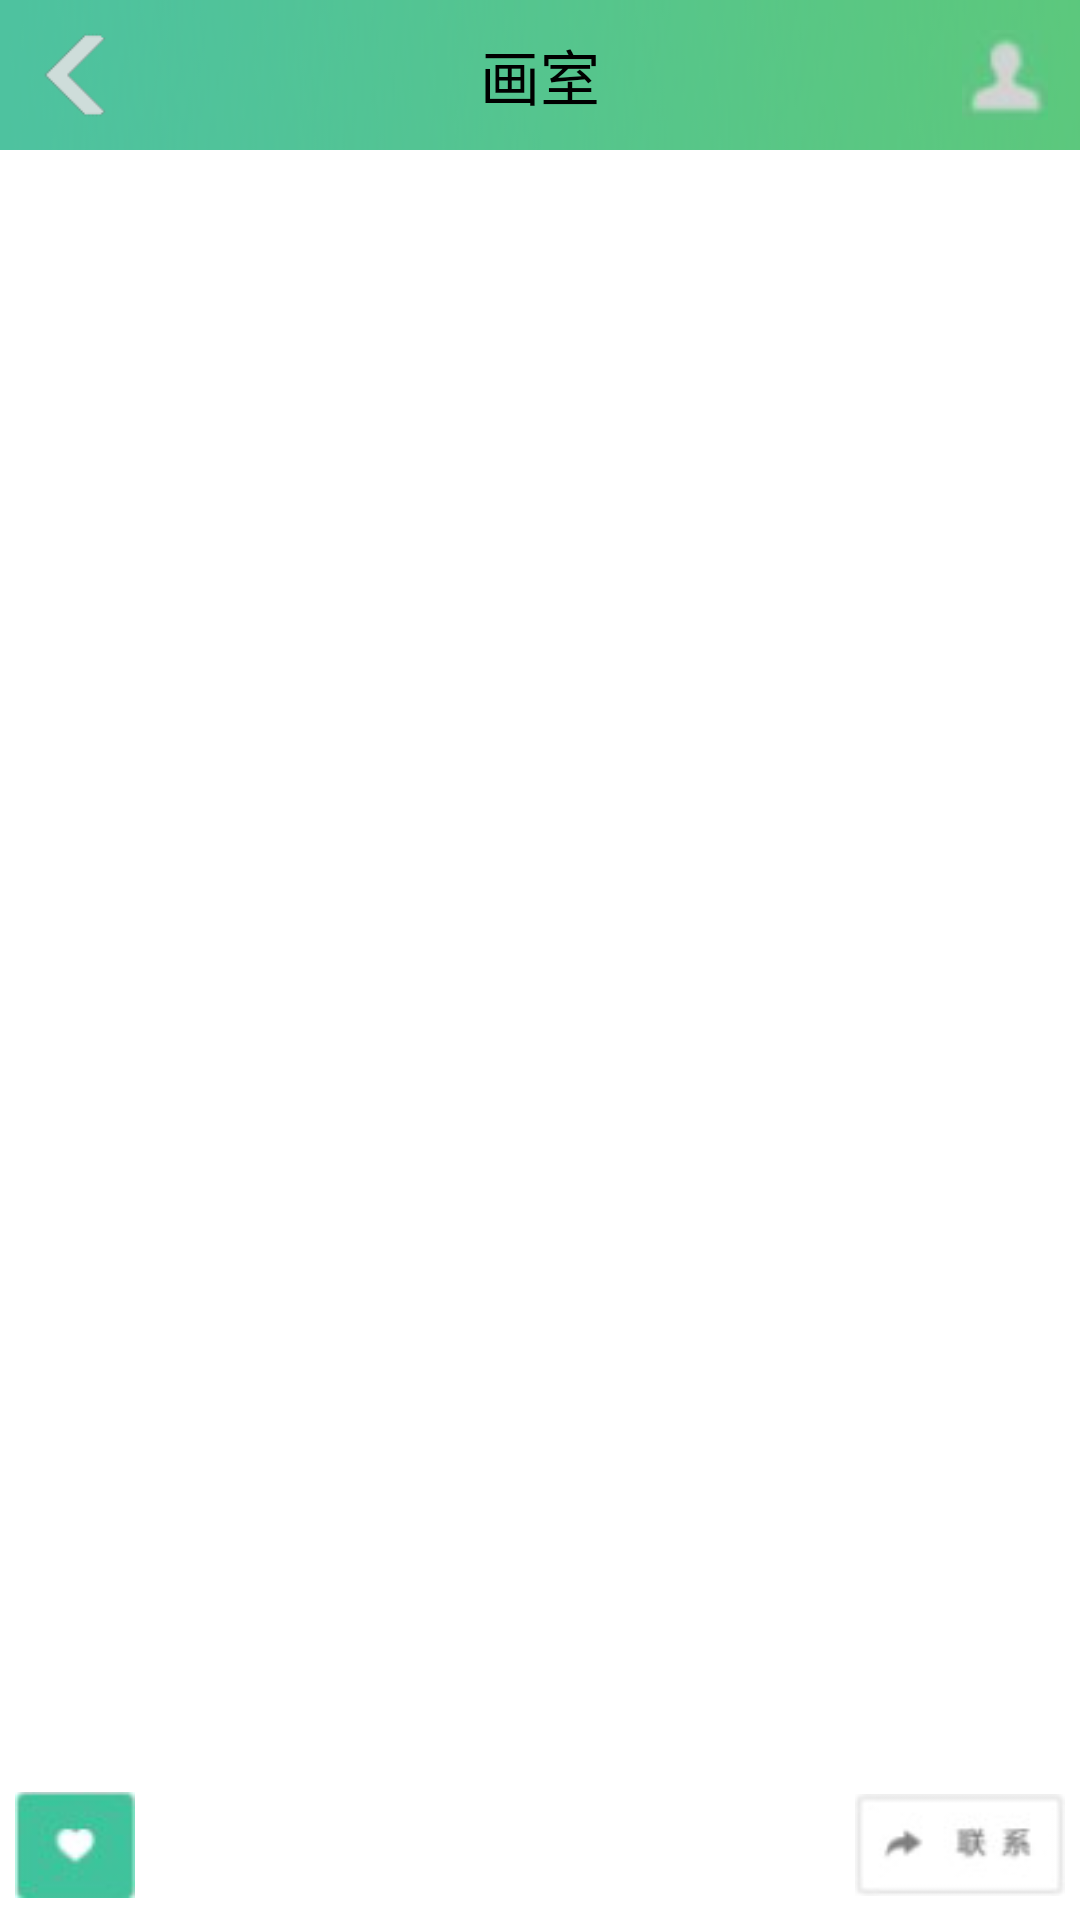

Screen size 1080px x 1920px. Icon name, then its box in pixels as {"left": x1, "top": y1, "right": x2, "bottom": y2}:
atelier introduce favourite: {"left": 15, "top": 1792, "right": 135, "bottom": 1898}
back: {"left": 45, "top": 35, "right": 105, "bottom": 115}
user: {"left": 971, "top": 40, "right": 1042, "bottom": 113}
